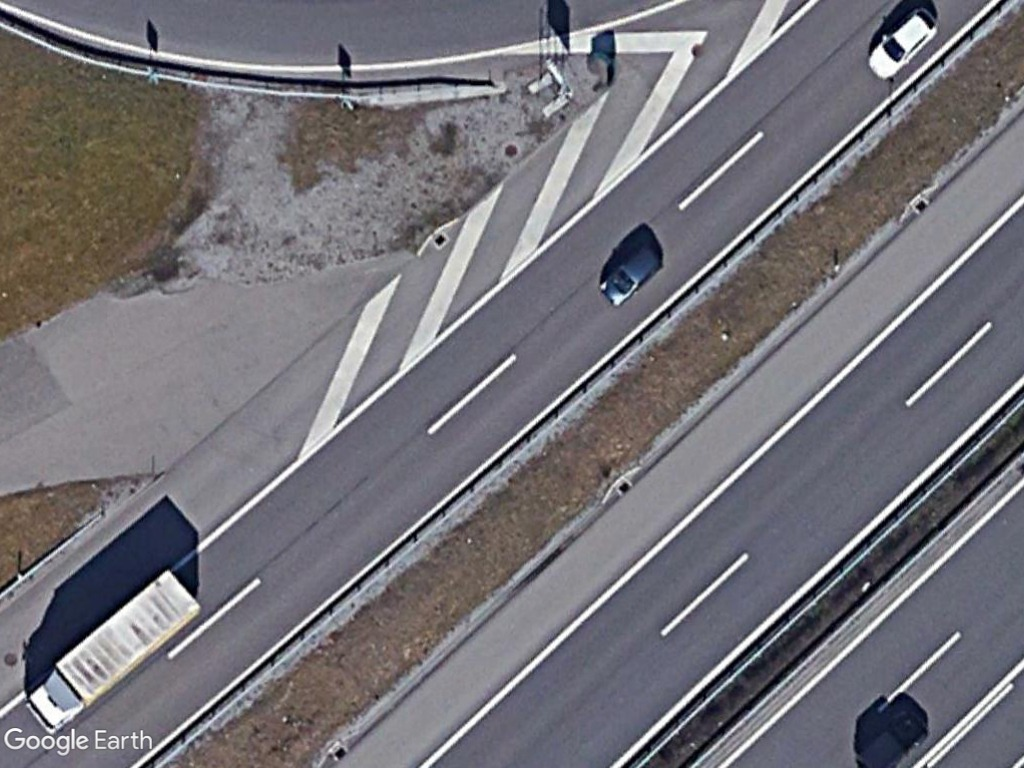car: (863, 4, 942, 83), (595, 241, 663, 307)
truck: (26, 568, 201, 732)
